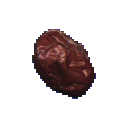ng: (25, 19, 108, 112)
